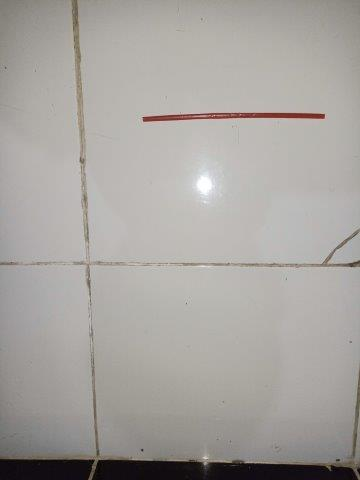sedotan: (144, 112, 324, 122)
